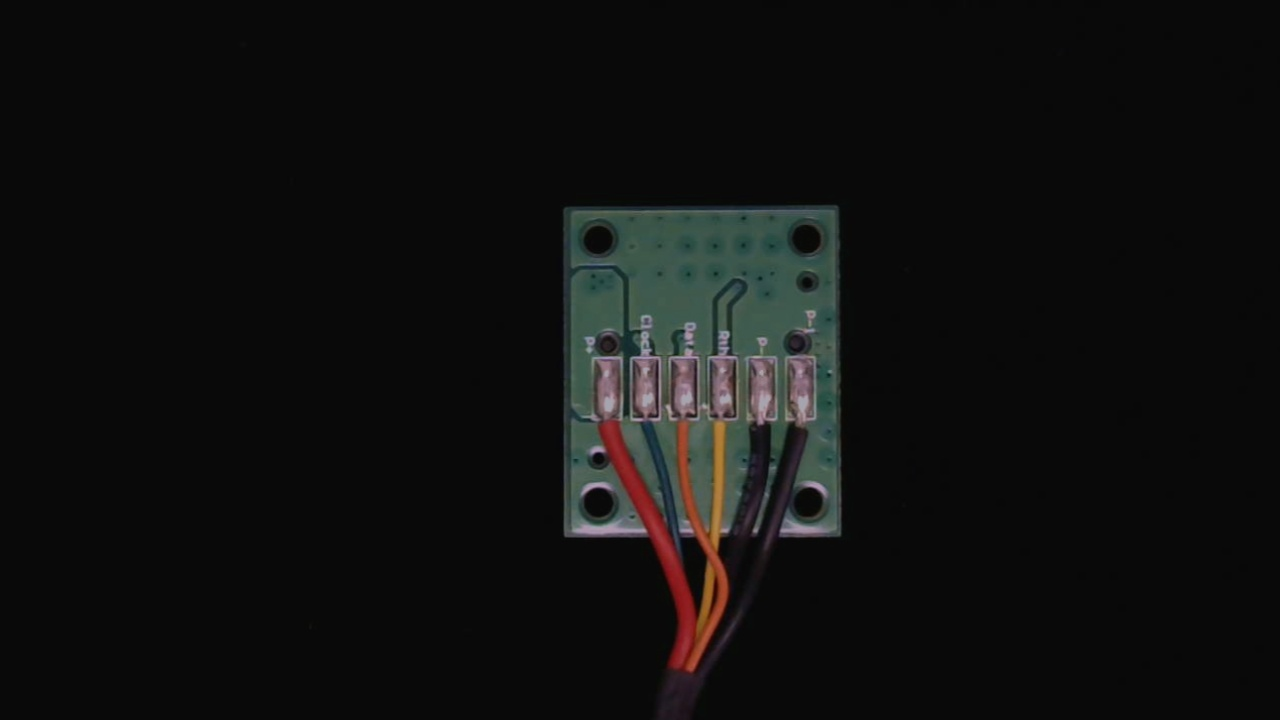Black: (746, 402, 774, 468)
Black1: (783, 402, 816, 469)
Green: (628, 400, 662, 455)
Orange: (668, 401, 699, 466)
Red: (592, 399, 622, 468)
Yellow: (705, 401, 739, 475)
